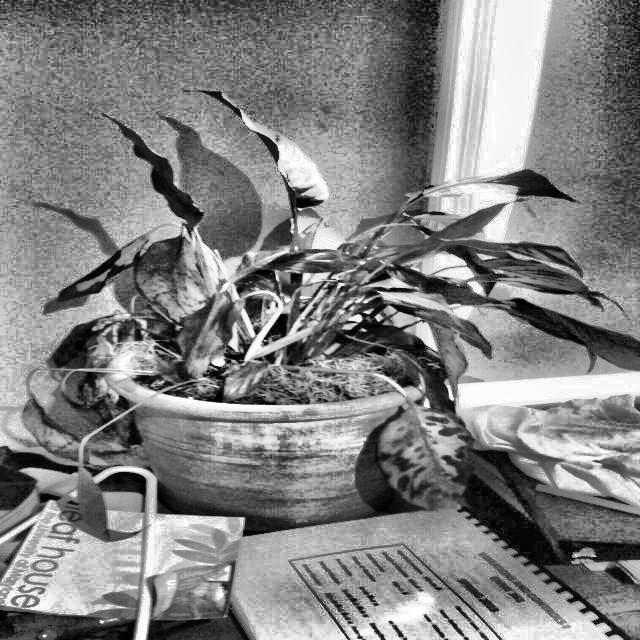plants: (62, 83, 539, 547), (349, 370, 489, 518)
